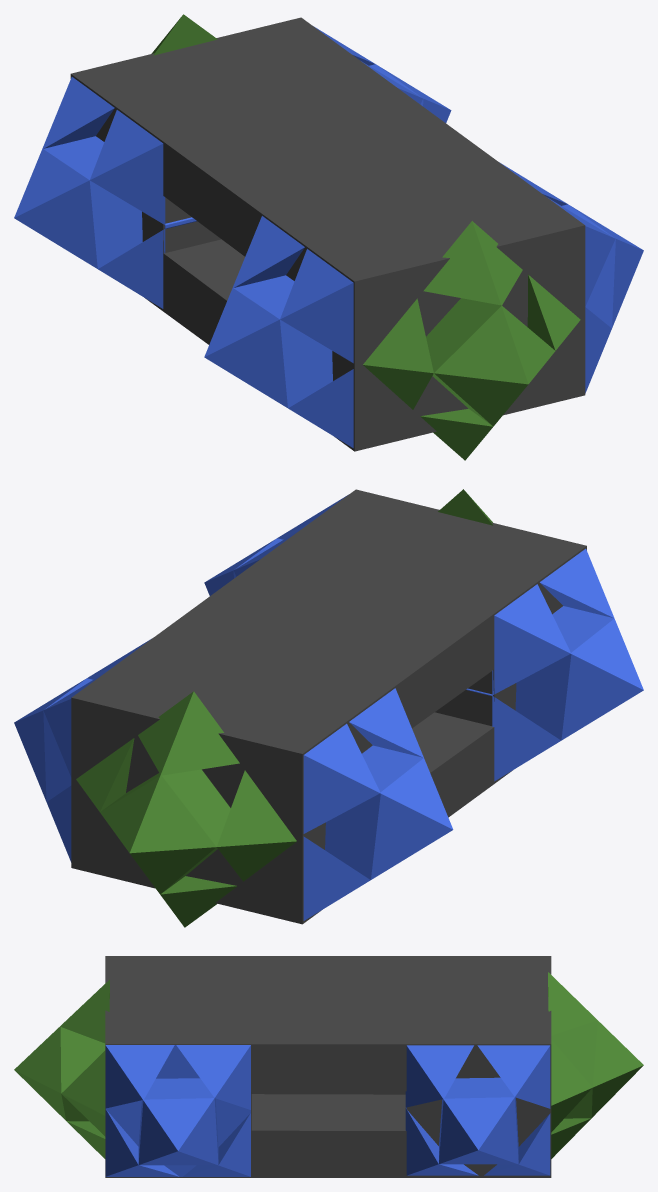
File: workTable.fbx
3 renders of one model, top to bottom at view 1: azimuth 30°, elevation 25°; view 2: azimuth 150°, elevation 25°; view 3: azimuth 270°, elevation 25°, orthographic. The views are drawn at different scales.
Parts seen in each view (by area): view 1: Cube, Cube.007, Cube.005, Cube.003, Cube.001, Cube.002, Cube.008; view 2: Cube, Cube.008, Cube.003, Cube.005, Cube.002, Cube.001, Cube.007; view 3: Cube, Cube.001, Cube.002, Cube.008, Cube.007.
Boxes of the visible parts, left/top/right/bottom form: Cube: left=70, top=17, right=585, bottom=451; Cube.007: left=363, top=221, right=580, bottom=460; Cube.005: left=14, top=77, right=196, bottom=308; Cube.003: left=204, top=216, right=353, bottom=448; Cube.001: left=499, top=162, right=643, bottom=393; Cube.002: left=314, top=26, right=451, bottom=122; Cube.008: left=151, top=14, right=217, bottom=55; Cube: left=71, top=489, right=586, bottom=924; Cube.008: left=76, top=691, right=296, bottom=927; Cube.003: left=466, top=548, right=643, bottom=781; Cube.005: left=303, top=688, right=453, bottom=920; Cube.002: left=14, top=638, right=151, bottom=862; Cube.001: left=204, top=494, right=348, bottom=595; Cube.007: left=438, top=489, right=492, bottom=525; Cube: left=105, top=956, right=551, bottom=1177; Cube.001: left=105, top=1045, right=250, bottom=1176; Cube.002: left=405, top=1045, right=550, bottom=1175; Cube.008: left=548, top=972, right=643, bottom=1158; Cube.007: left=14, top=979, right=109, bottom=1158.
Size of the model in its own units: 548 by 288 by 866.
